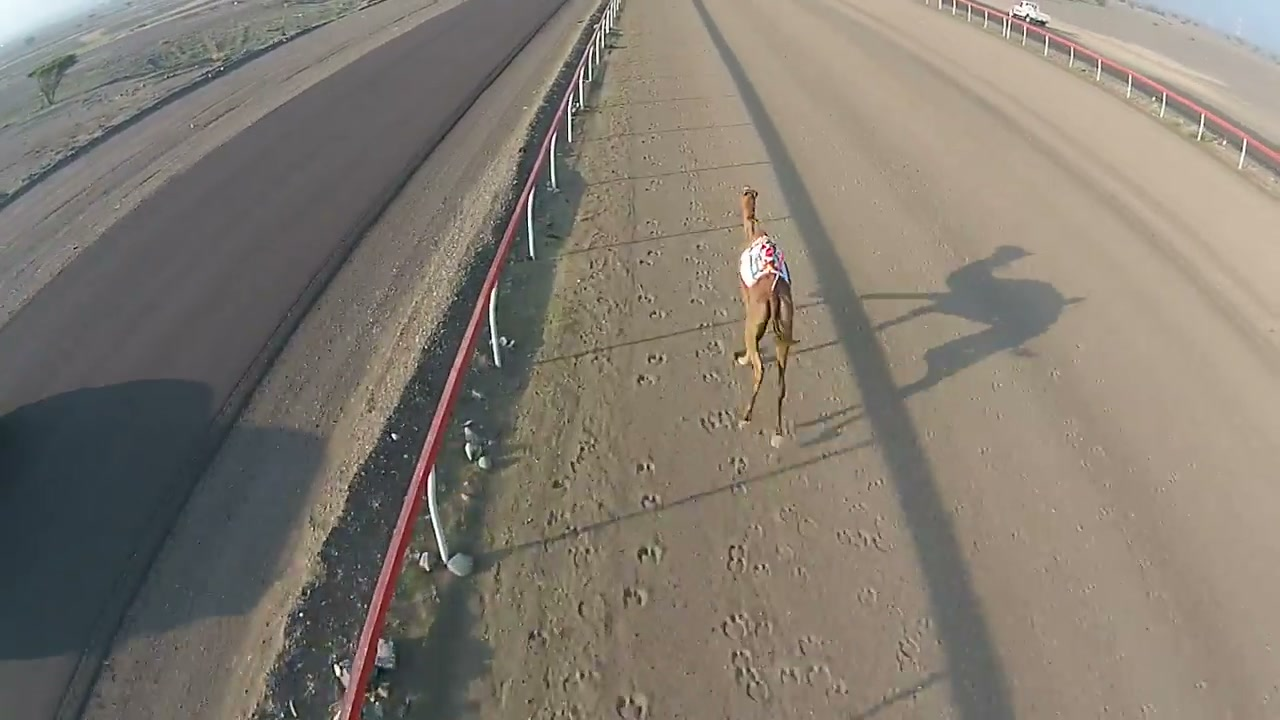animal_footprint: (600, 131, 693, 719), (688, 235, 784, 709)
